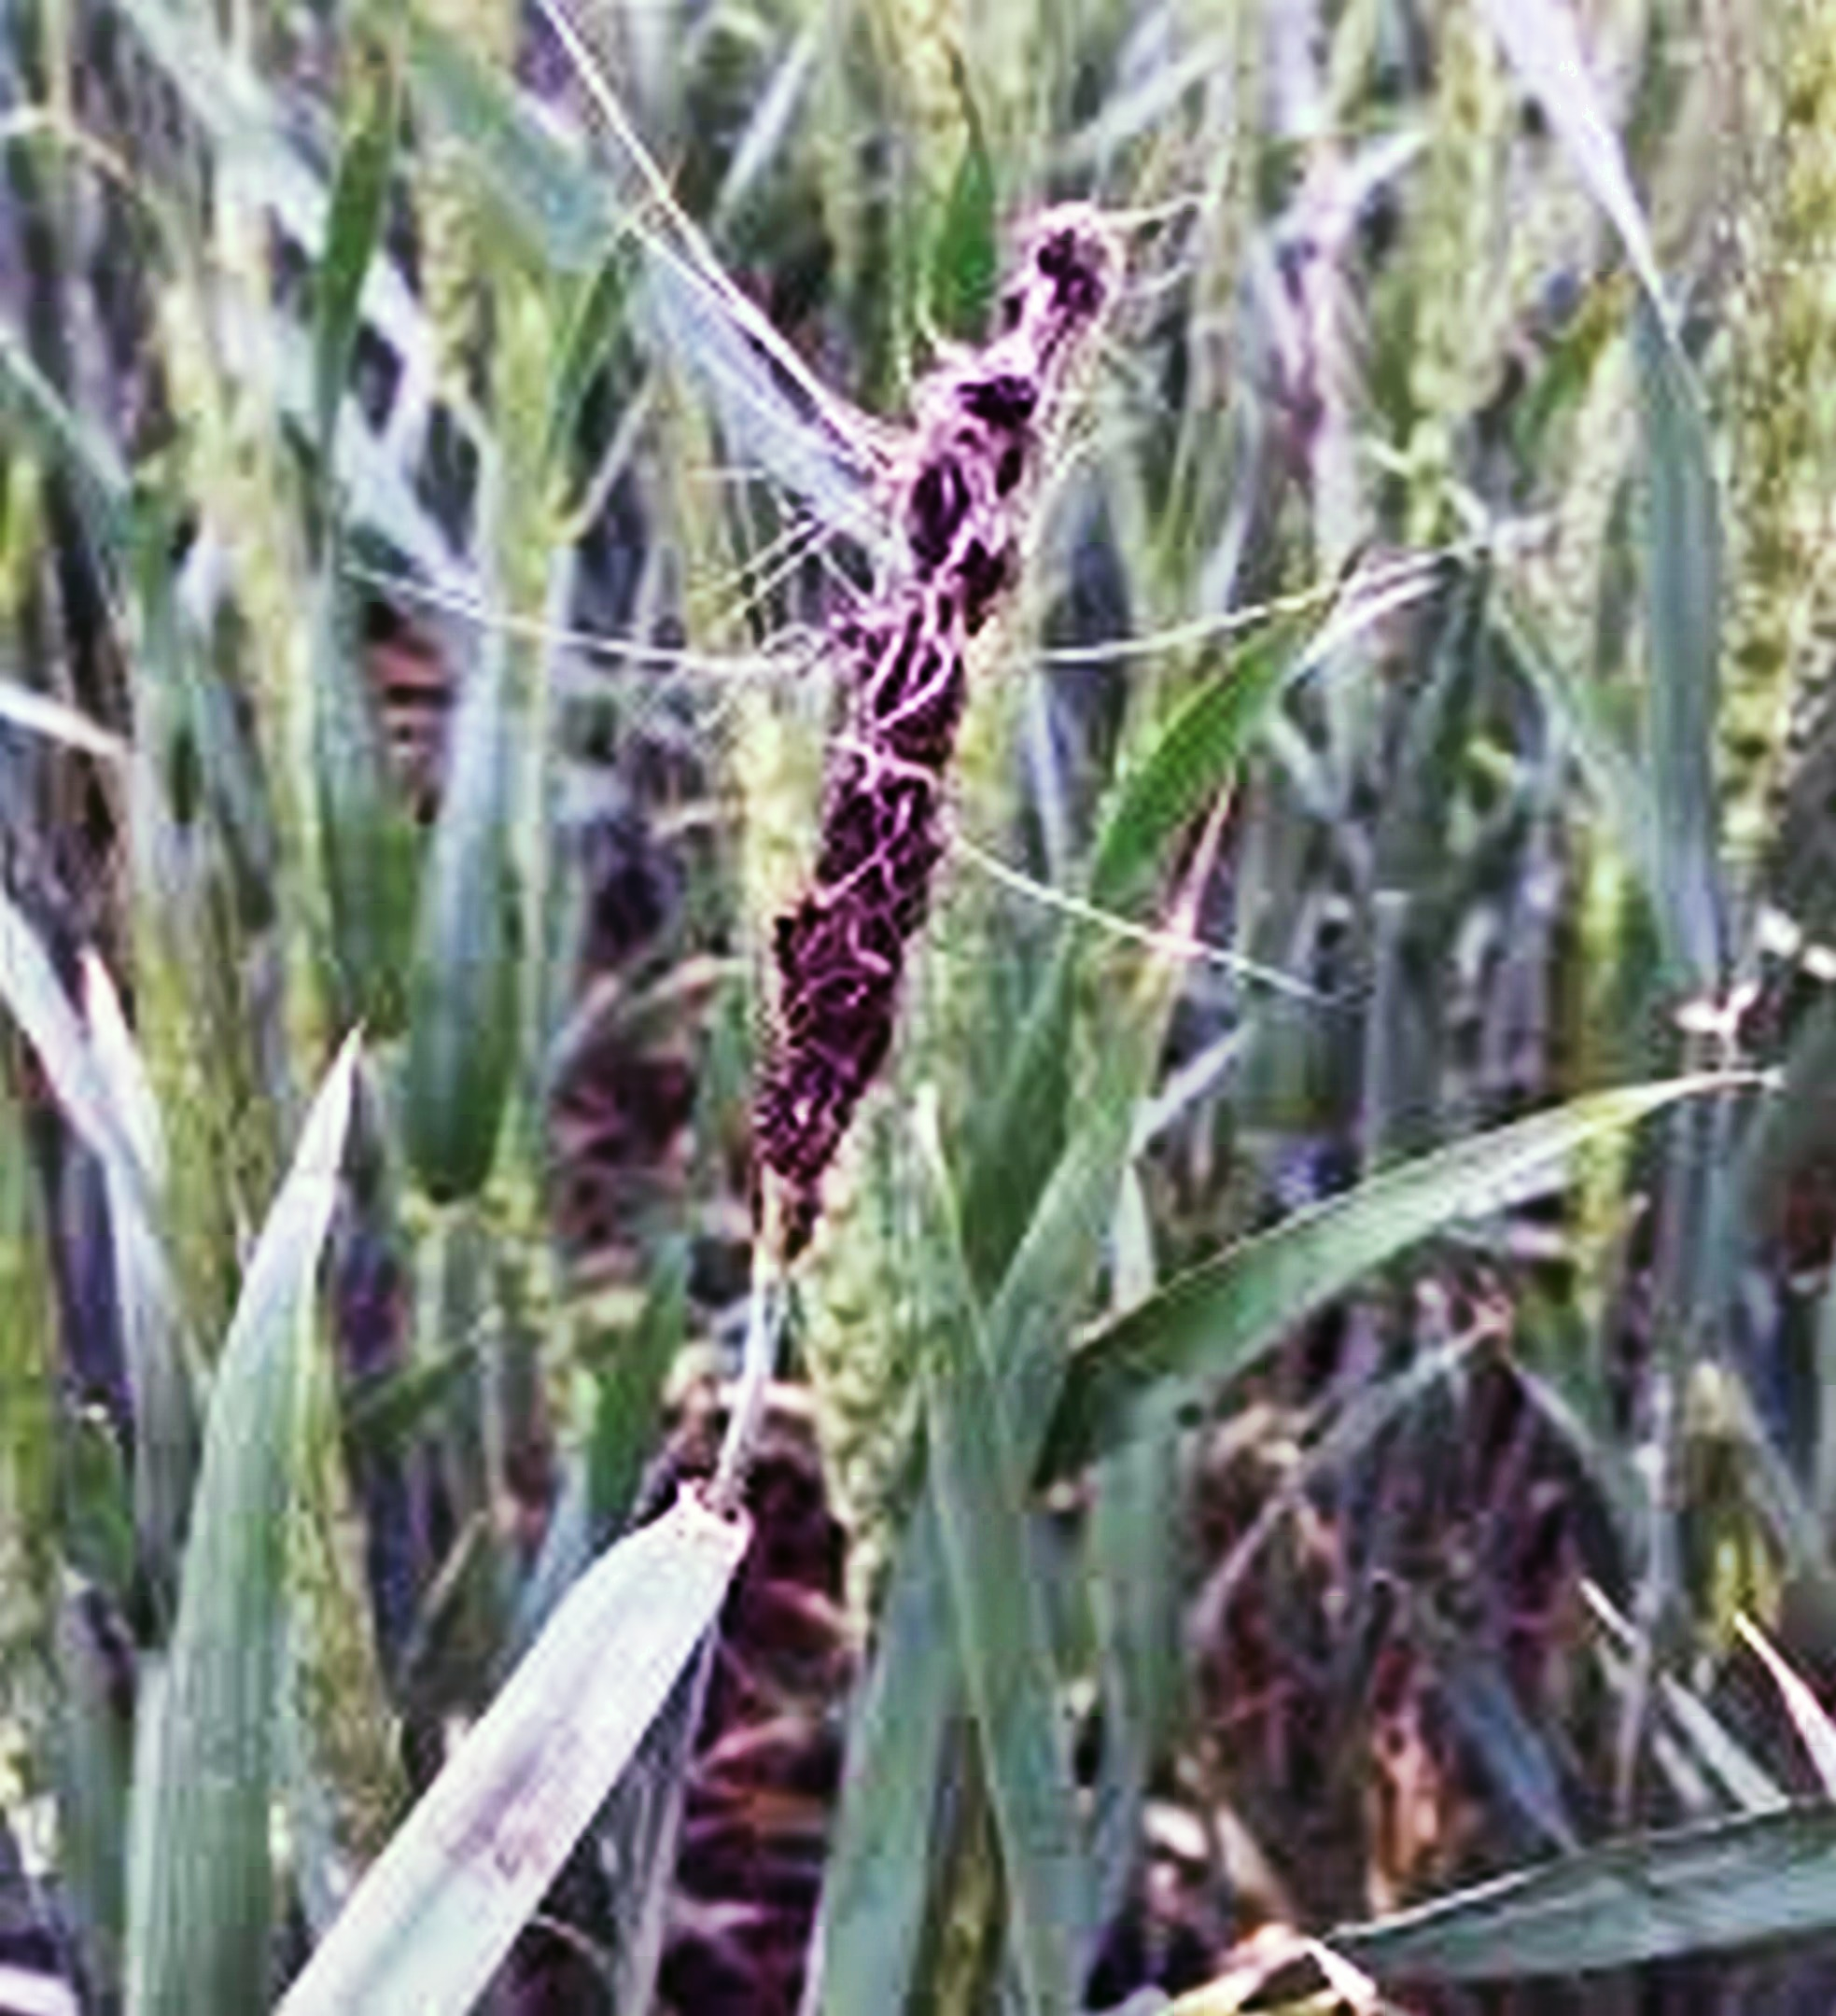Wheat Loose Smut: (740, 188, 1133, 1185)
